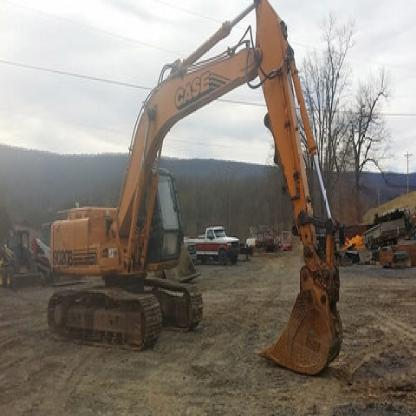excavator: (44, 3, 352, 379)
